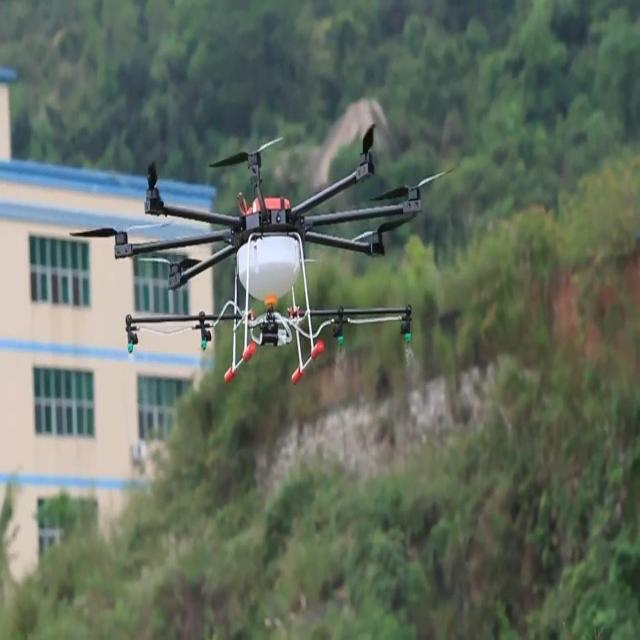drone: (70, 121, 458, 386)
